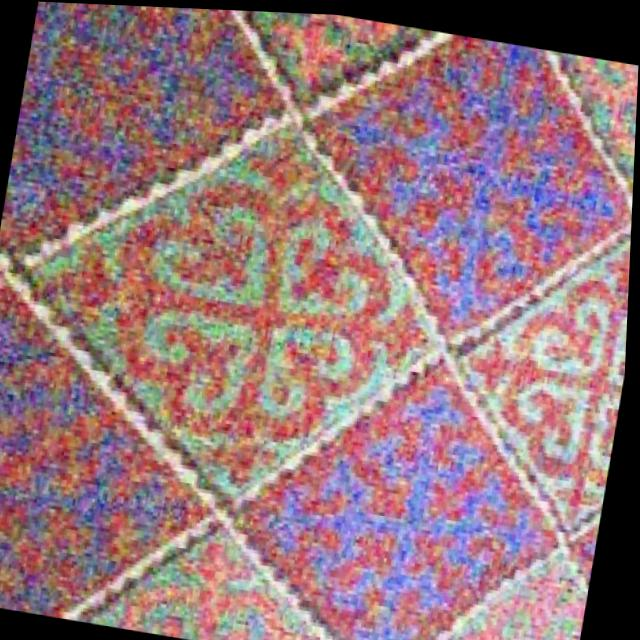Unity: (30, 124, 432, 490)
